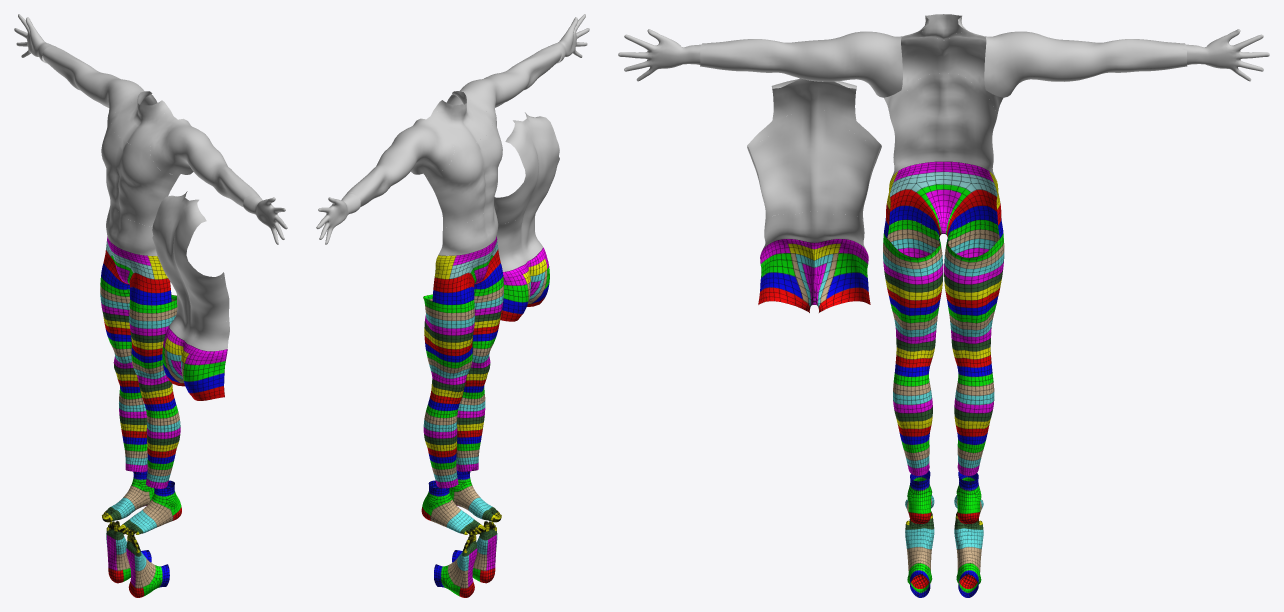
The model's file is RothToo_RC1_HUD_Skin_AlphCut_Model.dae.
3 views of the same model, side by side, from view 1: azimuth 30°, elevation 25°; view 2: azimuth 150°, elevation 25°; view 3: azimuth 270°, elevation 25° (orthographic). The views are drawn at different scales.
Parts seen in each view (by area): view 1: prim13, prim11, prim18, prim19, prim1, prim2, prim8, prim16, prim12, prim7, prim3, prim0 (+11 smaller); view 2: prim19, prim18, prim1, prim13, prim2, prim8, prim16, prim11, prim12, prim20, prim7, prim9 (+11 smaller); view 3: prim13, prim19, prim11, prim18, prim16, prim22, prim9, prim14, prim0, prim2, prim12, prim10 (+11 smaller).
Boxes of the visible parts, bbox=[...] form: prim13: bbox=[157, 118, 259, 207]; prim11: bbox=[162, 326, 227, 400]; prim18: bbox=[101, 236, 171, 305]; prim19: bbox=[42, 45, 157, 121]; prim1: bbox=[102, 470, 181, 535]; prim2: bbox=[106, 521, 169, 597]; prim8: bbox=[101, 119, 177, 201]; prim16: bbox=[100, 276, 177, 335]; prim12: bbox=[152, 191, 224, 280]; prim7: bbox=[107, 98, 180, 177]; prim3: bbox=[138, 380, 180, 438]; prim0: bbox=[14, 14, 287, 244]; prim19: bbox=[345, 118, 446, 207]; prim18: bbox=[432, 236, 503, 304]; prim1: bbox=[421, 470, 501, 535]; prim13: bbox=[447, 45, 561, 121]; prim2: bbox=[434, 521, 497, 597]; prim8: bbox=[426, 119, 502, 201]; prim16: bbox=[423, 276, 503, 335]; prim11: bbox=[500, 247, 549, 321]; prim12: bbox=[494, 112, 559, 201]; prim20: bbox=[424, 321, 473, 384]; prim7: bbox=[423, 98, 496, 177]; prim9: bbox=[438, 165, 497, 227]; prim13: bbox=[700, 31, 902, 97]; prim19: bbox=[984, 31, 1187, 97]; prim11: bbox=[758, 239, 870, 312]; prim18: bbox=[884, 161, 1003, 241]; prim16: bbox=[883, 219, 1004, 284]; prim22: bbox=[749, 110, 879, 187]; prim9: bbox=[890, 73, 997, 145]; prim14: bbox=[760, 154, 868, 220]; prim0: bbox=[618, 29, 1269, 81]; prim2: bbox=[905, 511, 983, 597]; prim12: bbox=[747, 78, 881, 153]; prim10: bbox=[891, 125, 995, 179].
Size of the model in its own units: 0.0444 by 0.3005 by 0.2972.
